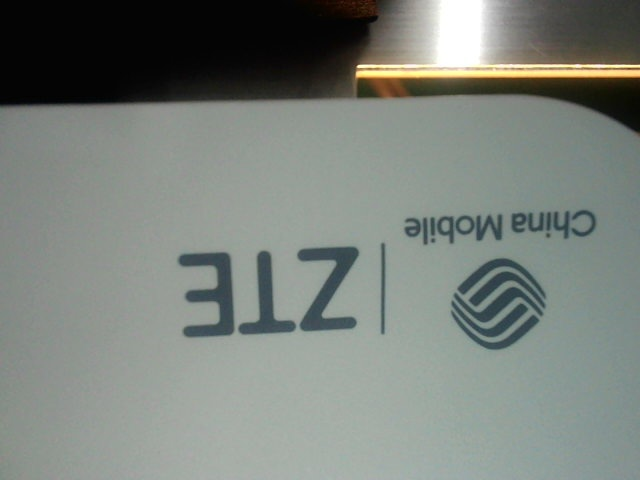AL_ZTEChinaMobile: (166, 186, 616, 355)
